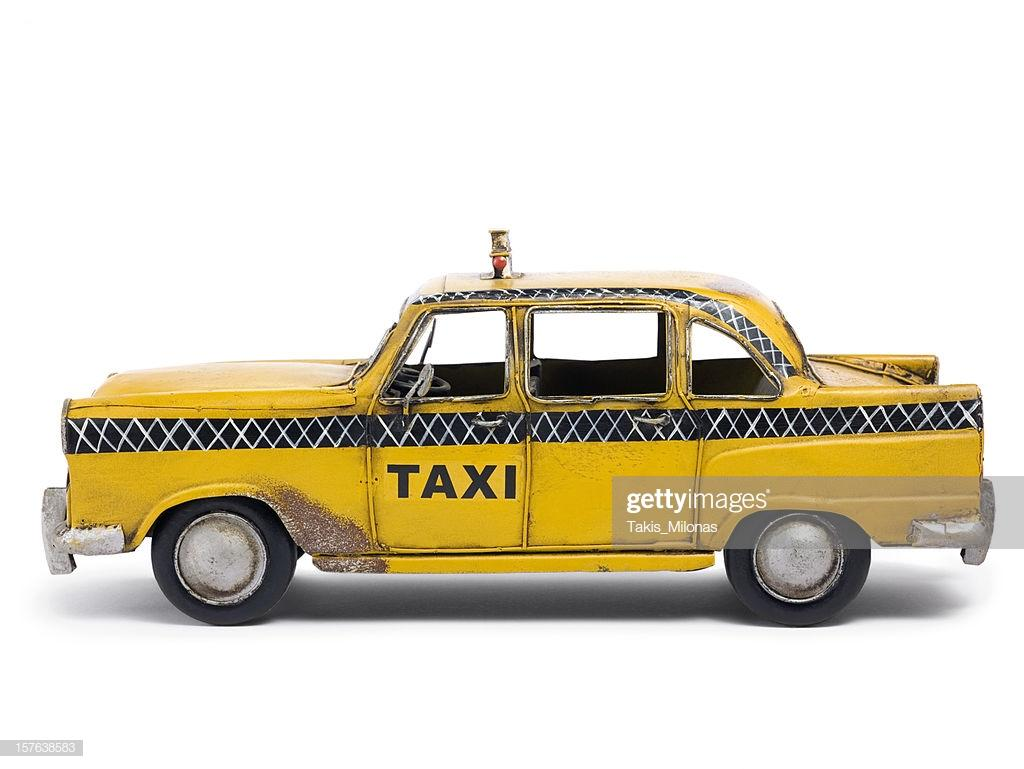taxi: (38, 261, 1024, 640)
